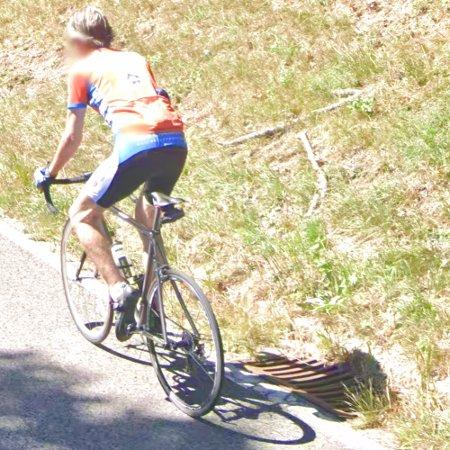bicycles: (110, 193, 225, 418), (60, 220, 120, 346)
